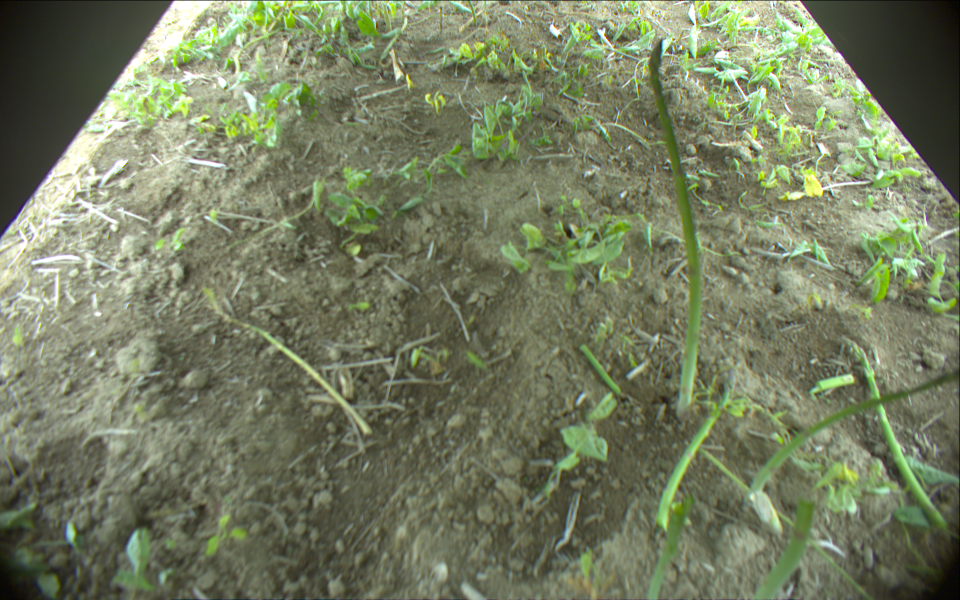aspa: (750, 363, 960, 495), (702, 447, 876, 600), (210, 294, 374, 435), (854, 342, 960, 538), (649, 39, 702, 422), (655, 369, 736, 529), (746, 496, 818, 600), (647, 497, 691, 600), (580, 343, 620, 392), (380, 11, 411, 61), (808, 372, 854, 397), (468, 1, 478, 25), (438, 7, 444, 33)
